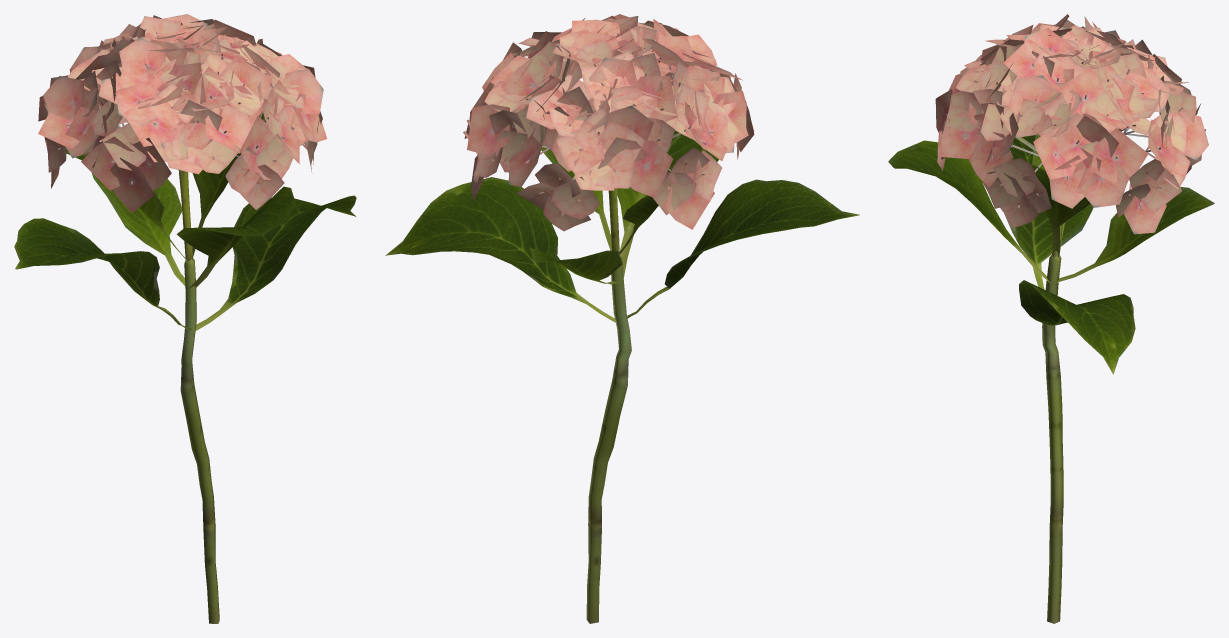
Rendered from Hydrangea OG SHORT PEACH.glb.
3 renders of one model, left to right at view 1: azimuth 30°, elevation 25°; view 2: azimuth 150°, elevation 25°; view 3: azimuth 270°, elevation 25°, orthographic. The views are drawn at different scales.
Visible parts, largest first — view 1: Hydrangea; view 2: Hydrangea; view 3: Hydrangea.
Boxes of the visible parts, x1,y1,x2,y2 form: Hydrangea: [14, 14, 356, 623]; Hydrangea: [385, 14, 859, 623]; Hydrangea: [888, 14, 1214, 623].
Bounding box in the file's own units: 1.38 × 1.94 × 1.
1 material, 1 textured.
